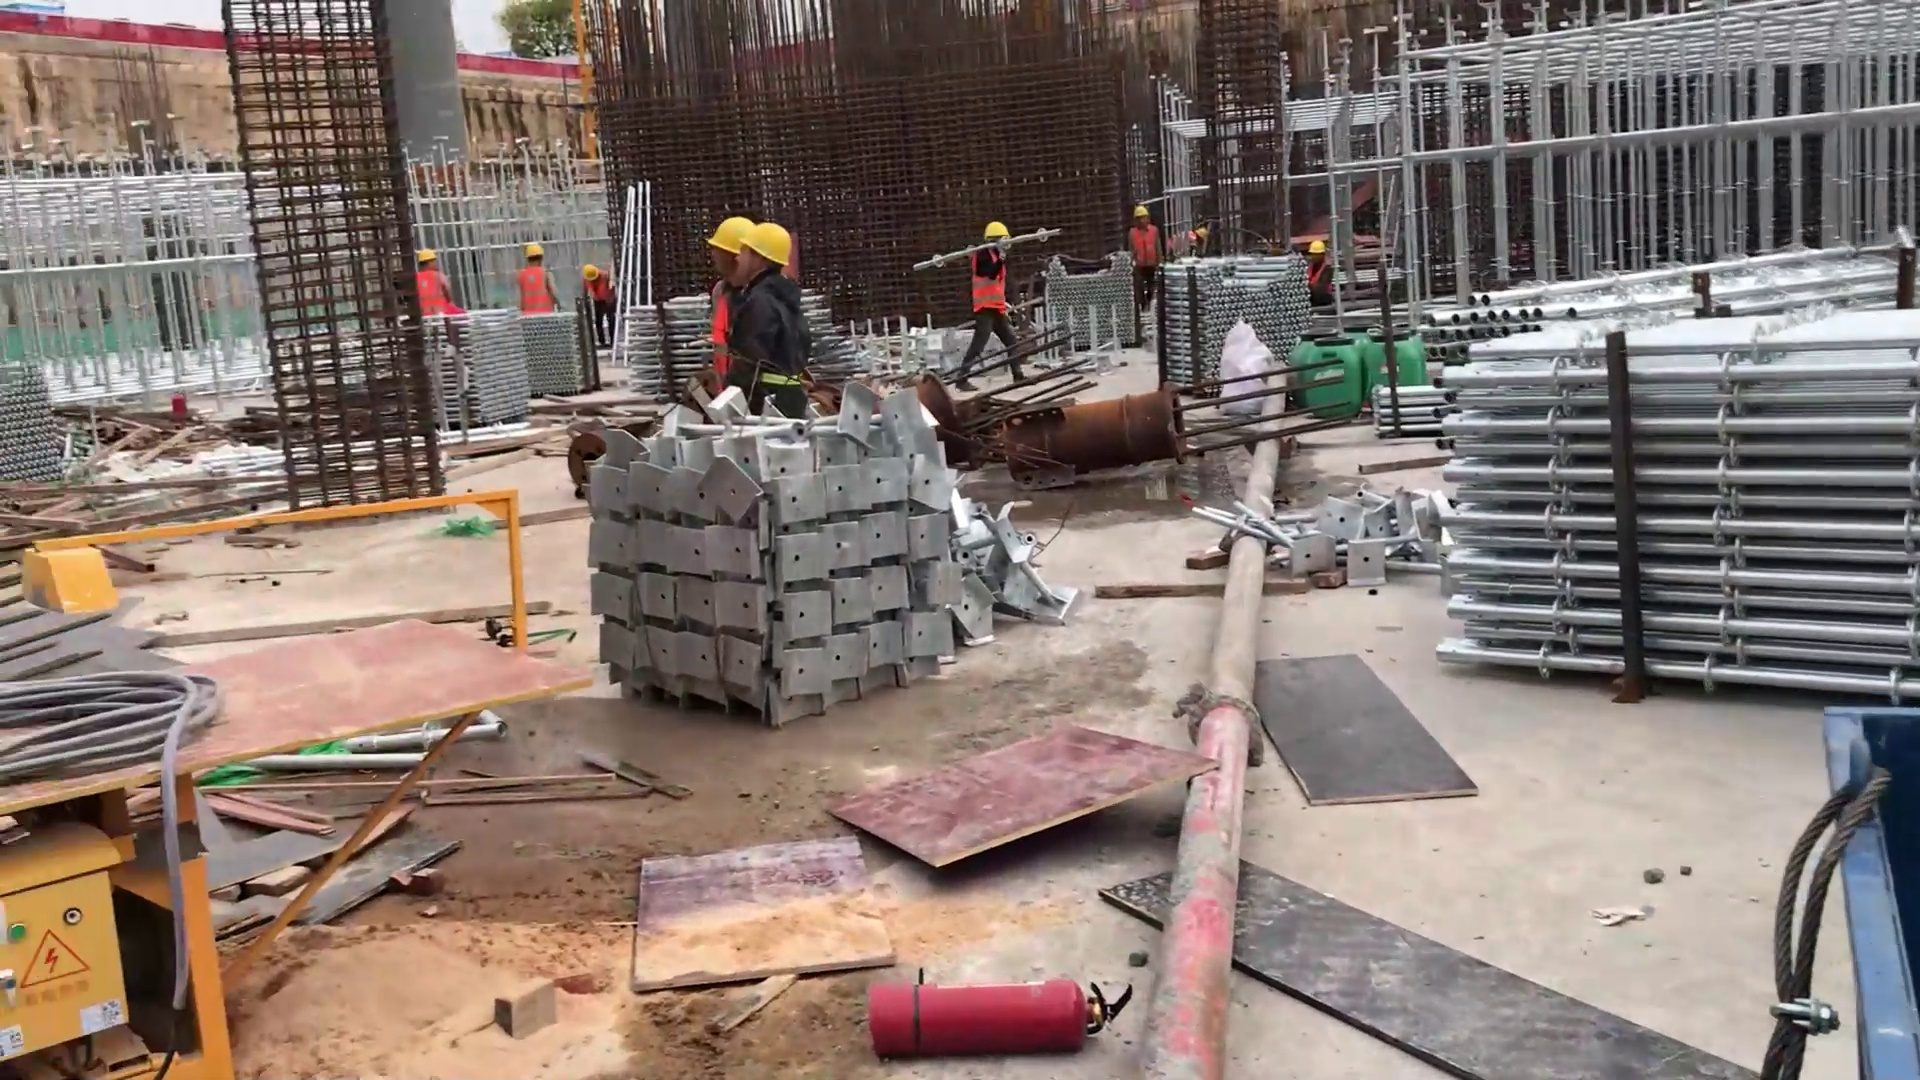helmet: (742, 224, 795, 270), (707, 215, 755, 251), (982, 219, 1012, 239), (417, 248, 439, 268), (581, 263, 601, 283), (1308, 237, 1328, 255), (1132, 206, 1150, 221), (525, 242, 544, 257)
person: (729, 219, 814, 415), (954, 219, 1038, 393), (701, 211, 769, 387), (575, 257, 629, 346), (1121, 202, 1167, 305), (412, 248, 473, 315), (512, 235, 559, 315), (1305, 237, 1338, 303)
vest: (966, 248, 1011, 319), (711, 282, 735, 390), (517, 266, 558, 313), (416, 270, 453, 313), (1130, 226, 1161, 269), (1307, 261, 1333, 299), (584, 280, 619, 305)
